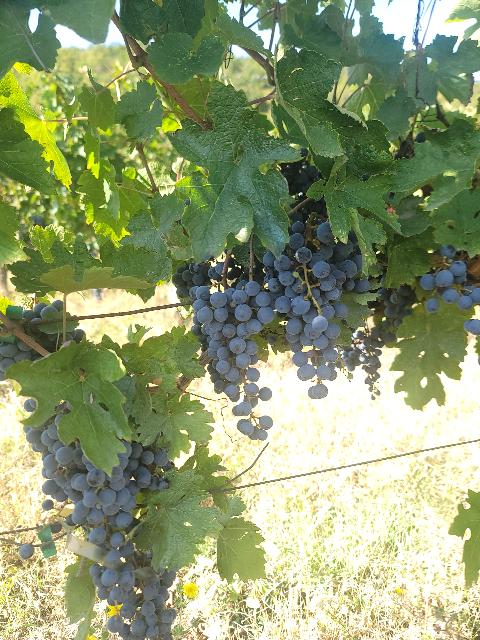grapes: (24, 402, 172, 550), (265, 209, 362, 399), (189, 285, 272, 440), (352, 326, 384, 400), (232, 281, 275, 334)
